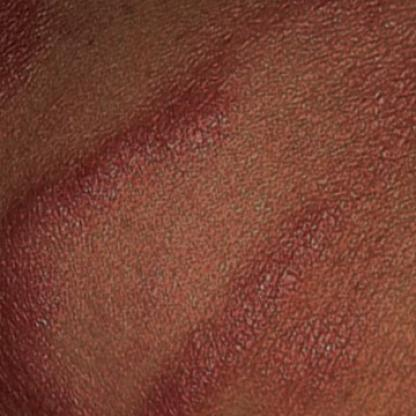Leprosy: (133, 200, 415, 415), (0, 138, 98, 412), (102, 55, 257, 199), (0, 0, 97, 101)
